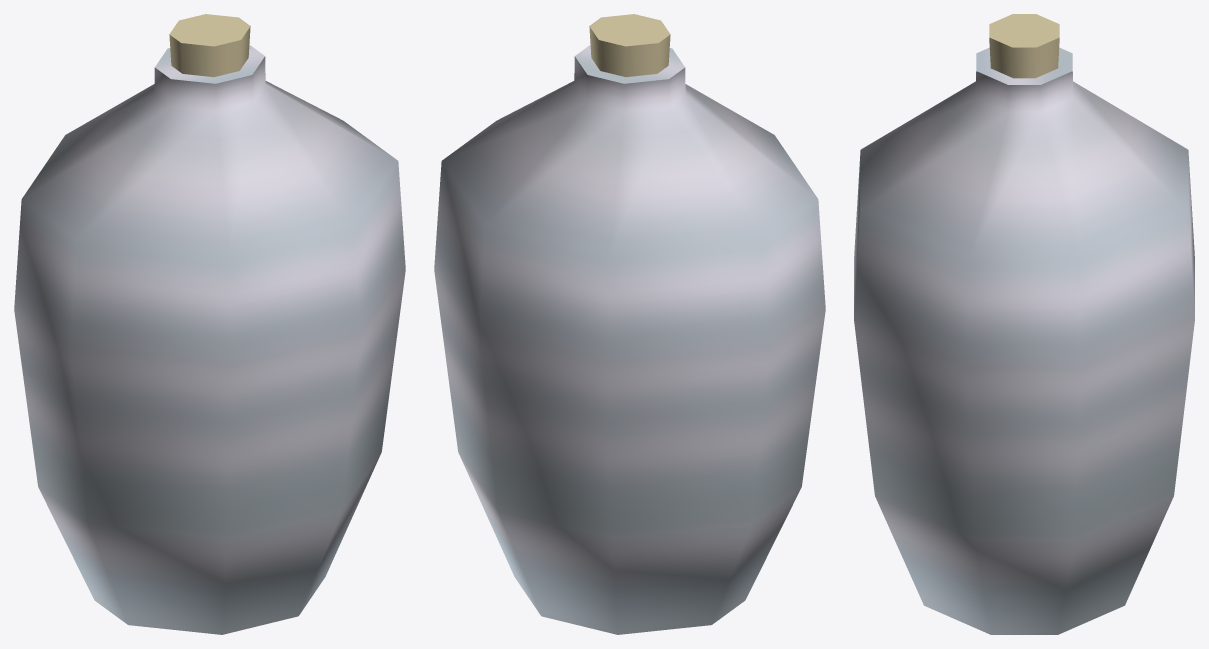
File: sake04alw.fbx
The picture shows the model from 3 angles, left to right: view 1: azimuth 30°, elevation 25°; view 2: azimuth 150°, elevation 25°; view 3: azimuth 270°, elevation 25°; orthographic projection.
Parts seen in each view (by area): view 1: sake04alw; view 2: sake04alw; view 3: sake04alw.
Boxes of the visible parts, x1,y1,x2,y2 form: sake04alw: [14, 14, 405, 634]; sake04alw: [434, 14, 825, 634]; sake04alw: [854, 14, 1194, 634].
Bounding box in the file's own units: 14.06 × 22.42 × 12.45.
